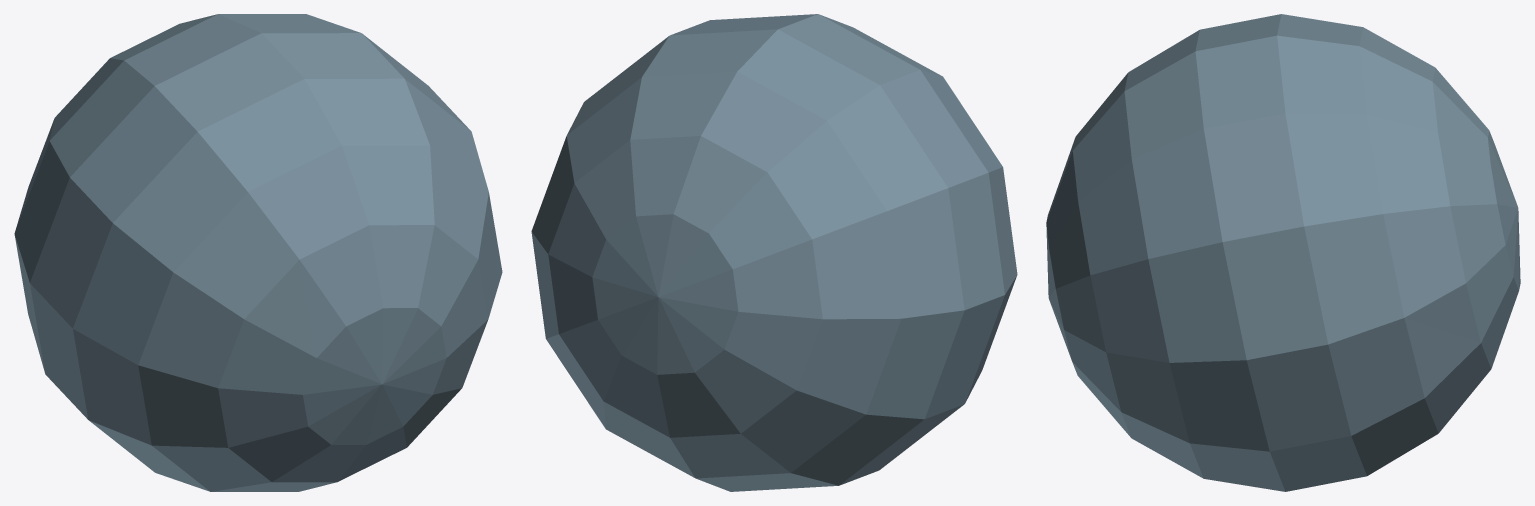
The model's file is astronaut_base_group584895319_lev4.glb.
The picture shows the model from 3 angles, left to right: view 1: azimuth 30°, elevation 25°; view 2: azimuth 150°, elevation 25°; view 3: azimuth 270°, elevation 25°; orthographic projection. The views are drawn at different scales.
Visible parts, largest first — view 1: astronaut_base_group584895319_lev4; view 2: astronaut_base_group584895319_lev4; view 3: astronaut_base_group584895319_lev4.
Part boxes in pixels (x1,y1,x2,y2): astronaut_base_group584895319_lev4: (14,14,502,491); astronaut_base_group584895319_lev4: (531,14,1017,491); astronaut_base_group584895319_lev4: (1046,14,1520,491).
Size of the model in its own units: 0.0327 by 0.0331 by 0.0327.
